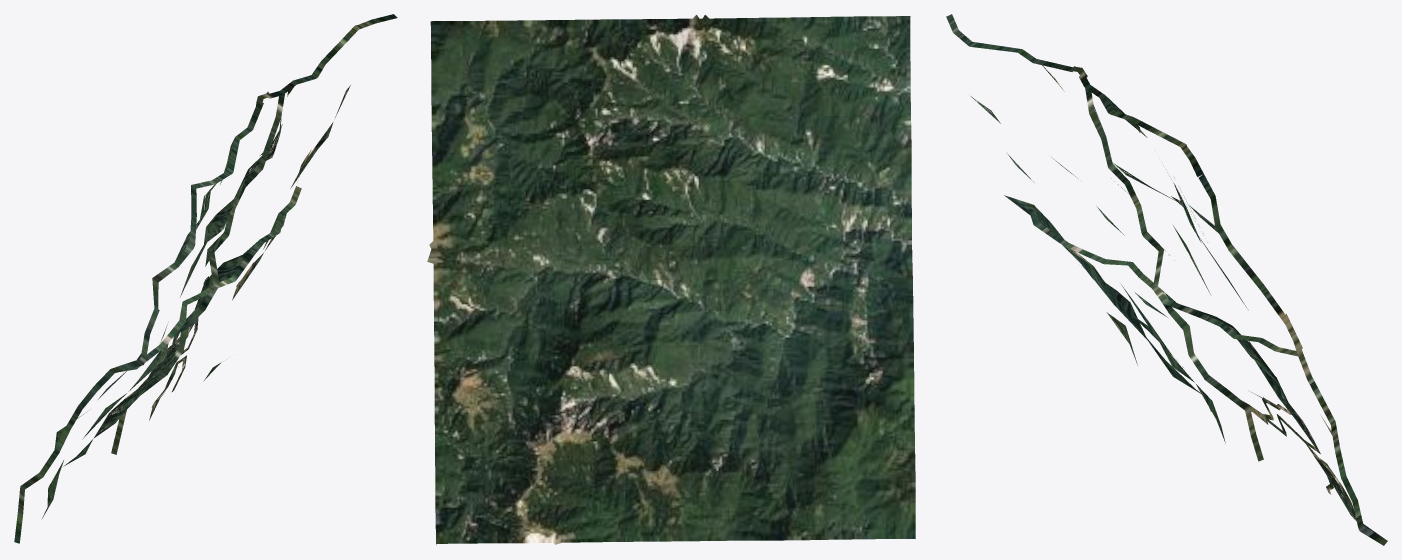
3 views of the same model, side by side, from view 1: azimuth 30°, elevation 25°; view 2: azimuth 150°, elevation 25°; view 3: azimuth 270°, elevation 25° (orthographic). The views are drawn at different scales.
Size of the model in its own units: 19510 by 18647 by 17141.
1 material, 1 textured.
